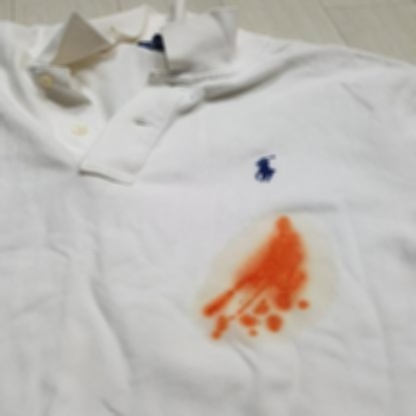kimchi: (201, 214, 336, 340), (237, 253, 306, 285), (262, 215, 304, 253), (194, 291, 235, 317), (206, 317, 231, 340), (251, 293, 272, 316), (276, 292, 297, 315), (266, 311, 286, 334), (240, 311, 261, 327), (301, 297, 311, 311), (250, 328, 262, 338)
